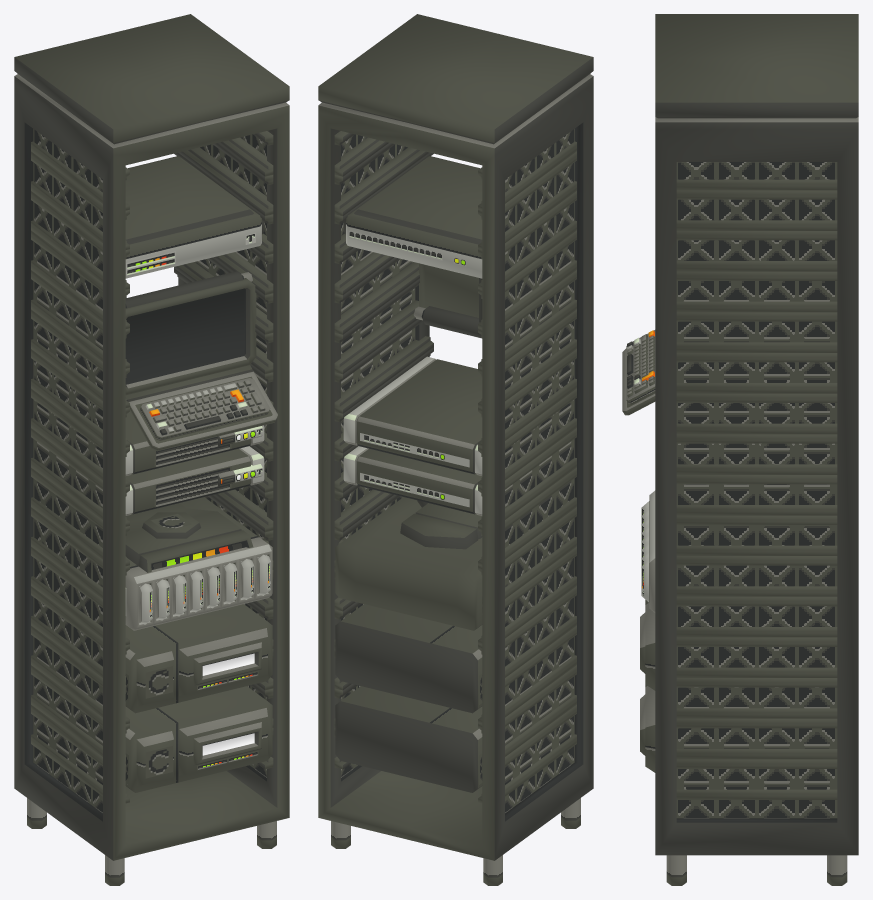
The model's file is rack-off.glb.
The picture shows the model from 3 angles, left to right: view 1: azimuth 30°, elevation 25°; view 2: azimuth 150°, elevation 25°; view 3: azimuth 270°, elevation 25°; orthographic projection. The views are drawn at different scales.
Visible parts, largest first — view 1: Plane.045, Plane.047, Plane.033 (×2), Plane.075, Plane.062, Plane (×2), Plane.070, Plane.069, Plane.056, Plane.048, Plane.049, Plane.046 (+2 smaller); view 2: Plane.045, Plane.047, Plane.033 (×2), Plane (×2), Plane.069, Plane.062, Plane.075, Plane.070, Plane.046, Plane.063; view 3: Plane.045, Plane.047, Plane.033 (×2), Plane.048, Plane.046, Plane.069, Plane.049, Plane.056.
Part boxes in pixels (x1,y1,x2,y2): Plane.045: [14, 14, 289, 860]; Plane.047: [31, 131, 273, 803]; Plane.033 (×2): [125, 604, 272, 792]; Plane.075: [125, 271, 256, 395]; Plane.062: [125, 156, 264, 278]; Plane (×2): [125, 411, 264, 515]; Plane.070: [125, 503, 253, 572]; Plane.069: [125, 497, 272, 630]; Plane.056: [125, 365, 277, 451]; Plane.048: [145, 379, 265, 435]; Plane.049: [139, 378, 270, 440]; Plane.046: [27, 798, 276, 885]; Plane.045: [318, 14, 593, 860]; Plane.047: [334, 131, 576, 803]; Plane.033 (×2): [335, 604, 482, 792]; Plane (×2): [343, 356, 482, 515]; Plane.069: [335, 497, 482, 630]; Plane.062: [343, 156, 482, 278]; Plane.075: [413, 263, 482, 337]; Plane.070: [400, 500, 482, 549]; Plane.046: [331, 798, 580, 885]; Plane.063: [349, 231, 466, 266]; Plane.045: [655, 14, 858, 855]; Plane.047: [676, 179, 837, 799]; Plane.033 (×2): [640, 600, 655, 772]; Plane.048: [627, 330, 654, 397]; Plane.046: [666, 855, 847, 885]; Plane.069: [649, 490, 655, 612]; Plane.049: [626, 330, 655, 404]; Plane.056: [622, 348, 655, 415].
Size of the model in its own units: 0.6181 by 2.56 by 0.6973.
1 material, 1 textured.
